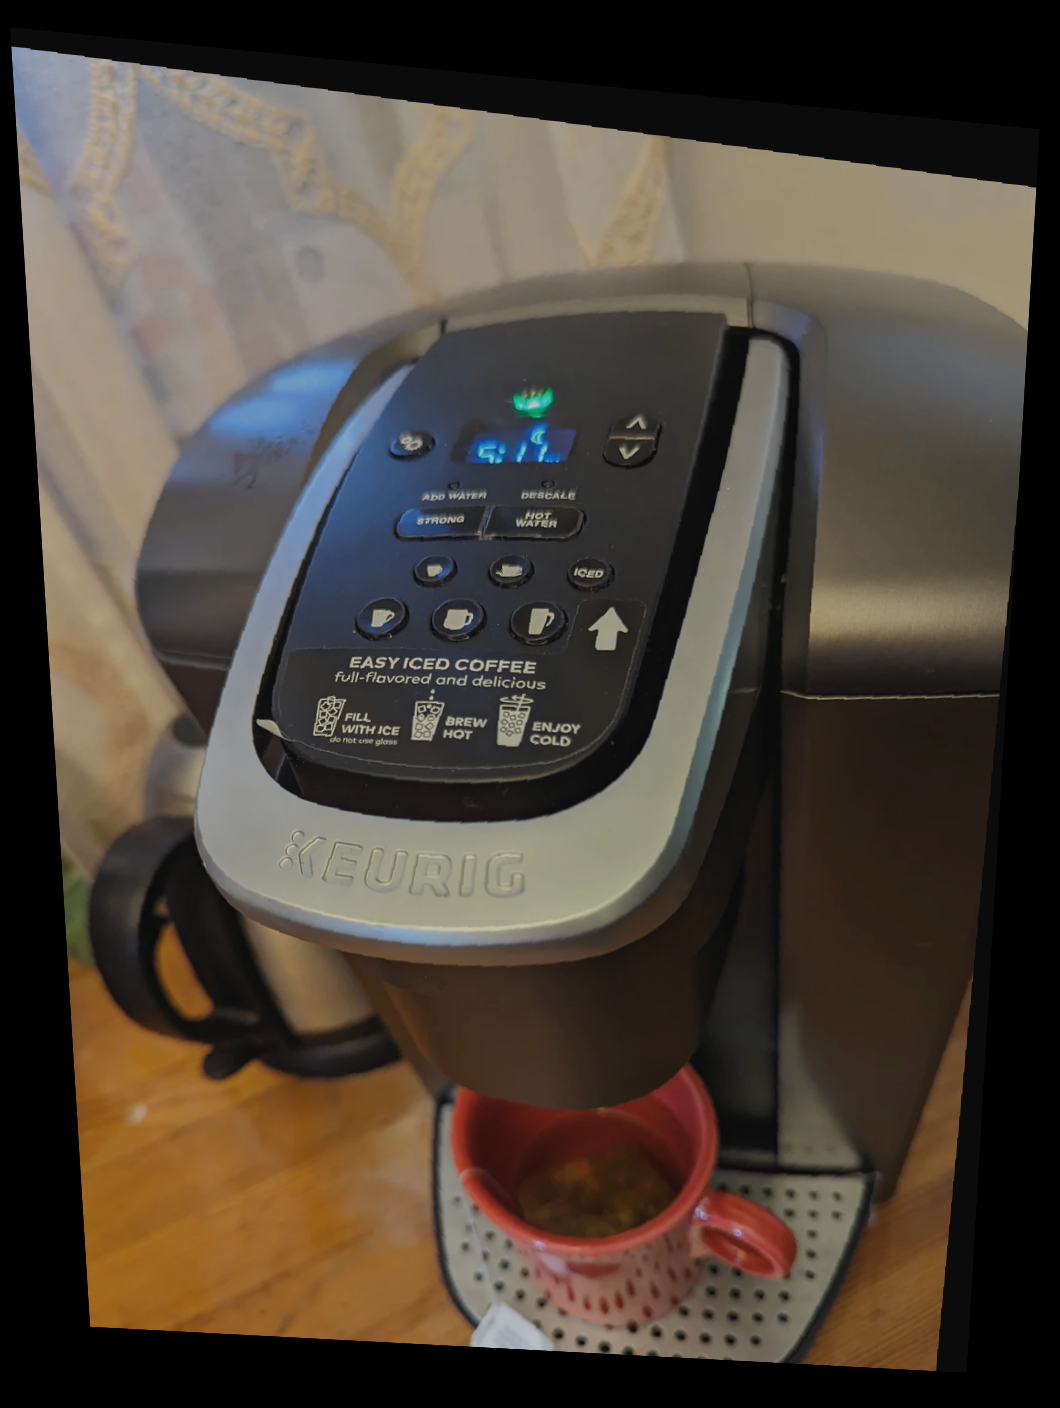10oz: (429, 595, 485, 641)
12oz: (510, 598, 566, 643)
4oz: (410, 550, 458, 588)
6oz: (487, 552, 536, 590)
8oz: (352, 593, 408, 638)
add_water: (414, 474, 493, 505)
descale: (507, 475, 586, 506)
hot: (490, 508, 582, 538)
iced: (562, 551, 619, 597)
power: (507, 378, 561, 421)
strong: (401, 506, 480, 538)
